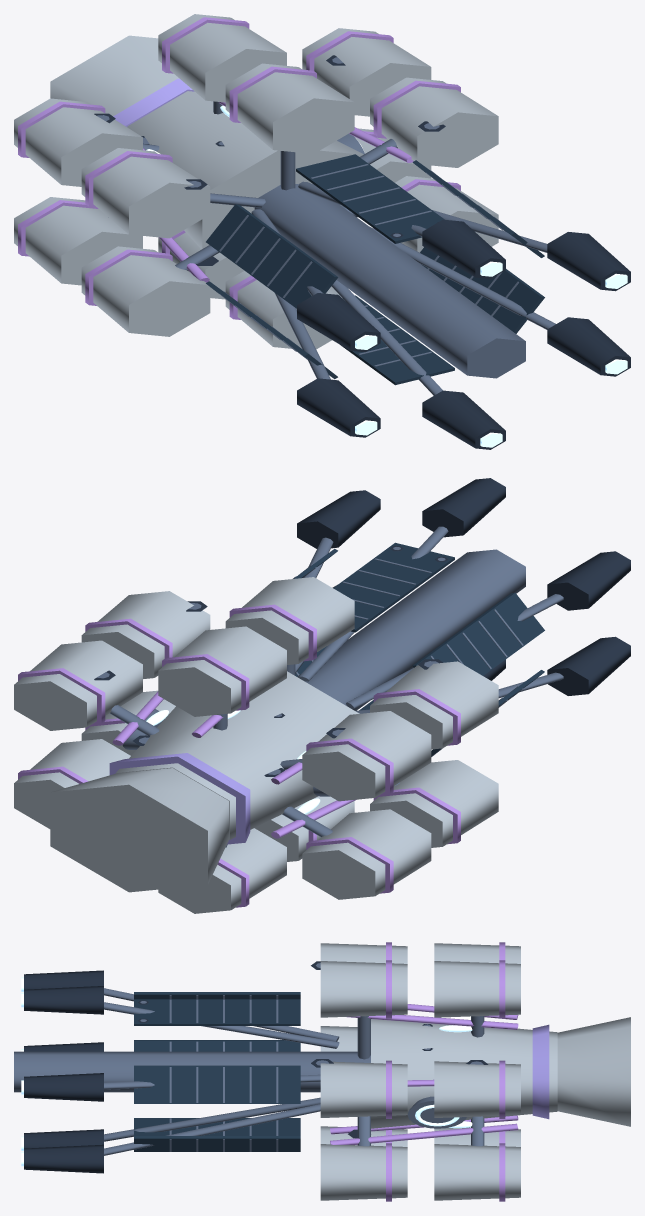
The model's file is cryogenic_hydrocarbon--bulk_freighter.glb.
3 views of the same model, one above another, from view 1: azimuth 30°, elevation 25°; view 2: azimuth 150°, elevation 25°; view 3: azimuth 270°, elevation 25° (orthographic). The views are drawn at different scales.
Visible parts, largest first — view 1: thermal_isolation_spine_1, cold_habitat_lantern_2, cryofreight_lantern_93, cryofreight_lantern_105, cryofreight_lantern_108, cryofreight_lantern_96, cryofreight_lantern_75, cryofreight_lantern_90, cryofreight_lantern_87, forward_ice_cap_3, heat_rejection_fin_64, heat_rejection_fin_9 (+29 smaller); view 2: forward_ice_cap_3, cold_habitat_lantern_2, thermal_isolation_spine_1, cryofreight_lantern_87, cryofreight_lantern_75, cryofreight_lantern_90, cryofreight_lantern_78, cryofreight_lantern_93, cryofreight_lantern_108, cryofreight_lantern_105, cryofreight_lantern_96, cryofreight_lantern_84 (+22 smaller); view 3: cold_habitat_lantern_2, thermal_isolation_spine_1, forward_ice_cap_3, heat_rejection_fin_20, cryofreight_lantern_93, cryofreight_lantern_75, cryofreight_lantern_81, cryofreight_lantern_99, cryofreight_lantern_96, cryofreight_lantern_78, heat_rejection_fin_9, heat_rejection_fin_31 (+30 smaller).
Boxes of the visible parts, x1=… form: thermal_isolation_spine_1: x1=254, y1=184, x2=525, y2=378; cold_habitat_lantern_2: x1=127, y1=91, x2=363, y2=249; cryofreight_lantern_93: x1=225, y1=63, x2=354, y2=153; cryofreight_lantern_105: x1=81, y1=246, x2=210, y2=336; cryofreight_lantern_108: x1=81, y1=148, x2=210, y2=238; cryofreight_lantern_96: x1=370, y1=77, x2=498, y2=167; cryofreight_lantern_75: x1=158, y1=14, x2=286, y2=102; cryofreight_lantern_90: x1=14, y1=98, x2=142, y2=186; cryofreight_lantern_87: x1=14, y1=197, x2=142, y2=285; forward_ice_cap_3: x1=50, y1=35, x2=179, y2=116; heat_rejection_fin_64: x1=206, y1=204, x2=338, y2=308; heat_rejection_fin_9: x1=296, y1=154, x2=444, y2=243; forward_ice_cap_3: x1=50, y1=768, x2=229, y2=892; cold_habitat_lantern_2: x1=115, y1=671, x2=359, y2=839; thermal_isolation_spine_1: x1=297, y1=549, x2=525, y2=710; cryofreight_lantern_87: x1=302, y1=809, x2=431, y2=899; cryofreight_lantern_75: x1=158, y1=626, x2=286, y2=716; cryofreight_lantern_90: x1=302, y1=711, x2=431, y2=801; cryofreight_lantern_78: x1=14, y1=640, x2=142, y2=730; cryofreight_lantern_93: x1=225, y1=577, x2=354, y2=664; cryofreight_lantern_108: x1=370, y1=661, x2=498, y2=749; cryofreight_lantern_105: x1=370, y1=760, x2=498, y2=847; cryofreight_lantern_96: x1=81, y1=591, x2=210, y2=678; cryofreight_lantern_84: x1=158, y1=828, x2=286, y2=913; cold_habitat_lantern_2: x1=371, y1=1019, x2=557, y2=1128; thermal_isolation_spine_1: x1=14, y1=1051, x2=370, y2=1092; forward_ice_cap_3: x1=557, y1=1017, x2=630, y2=1126; heat_rejection_fin_20: x1=134, y1=1065, x2=300, y2=1103; cryofreight_lantern_93: x1=320, y1=961, x2=407, y2=1017; cryofreight_lantern_75: x1=434, y1=961, x2=520, y2=1017; cryofreight_lantern_81: x1=434, y1=1144, x2=520, y2=1200; cryofreight_lantern_99: x1=320, y1=1144, x2=407, y2=1200; cryofreight_lantern_96: x1=320, y1=1061, x2=407, y2=1117; cryofreight_lantern_78: x1=434, y1=1061, x2=520, y2=1117; heat_rejection_fin_9: x1=134, y1=999, x2=300, y2=1025; heat_rejection_fin_31: x1=134, y1=1136, x2=300, y2=1151.
Size of the model in its own units: 380 by 248 by 650.
